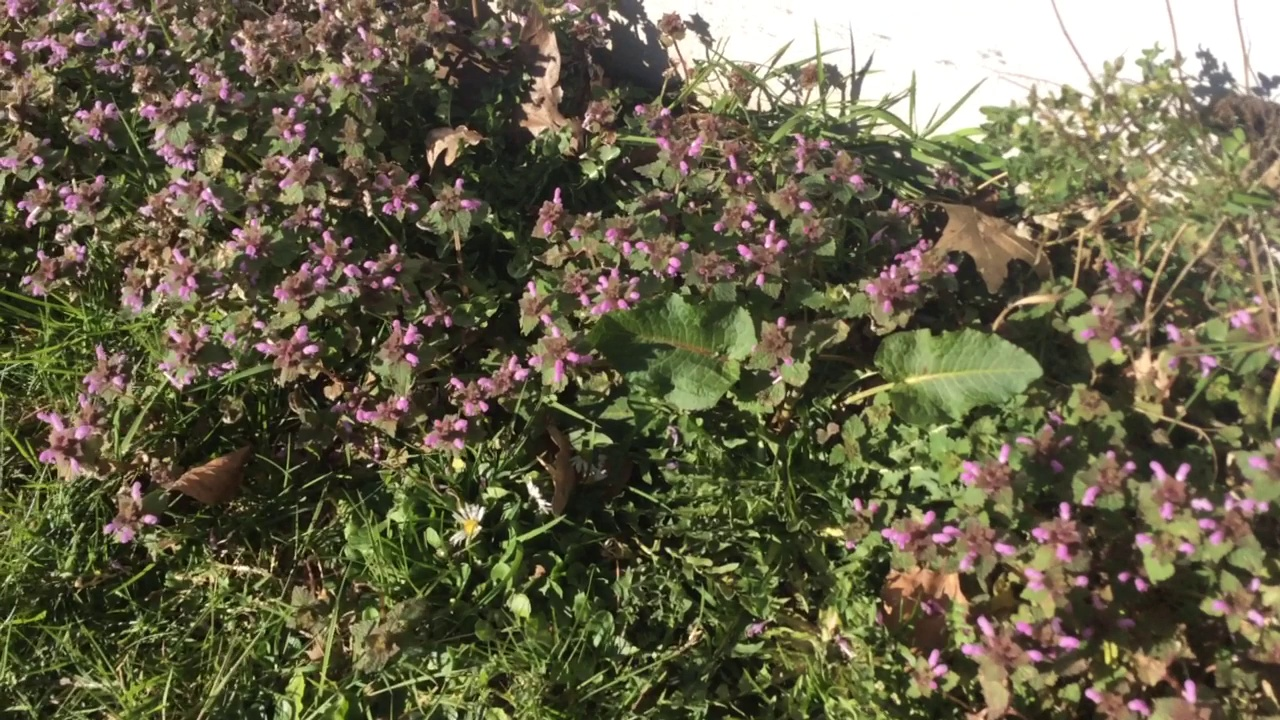rumex: (577, 296, 1043, 418)
